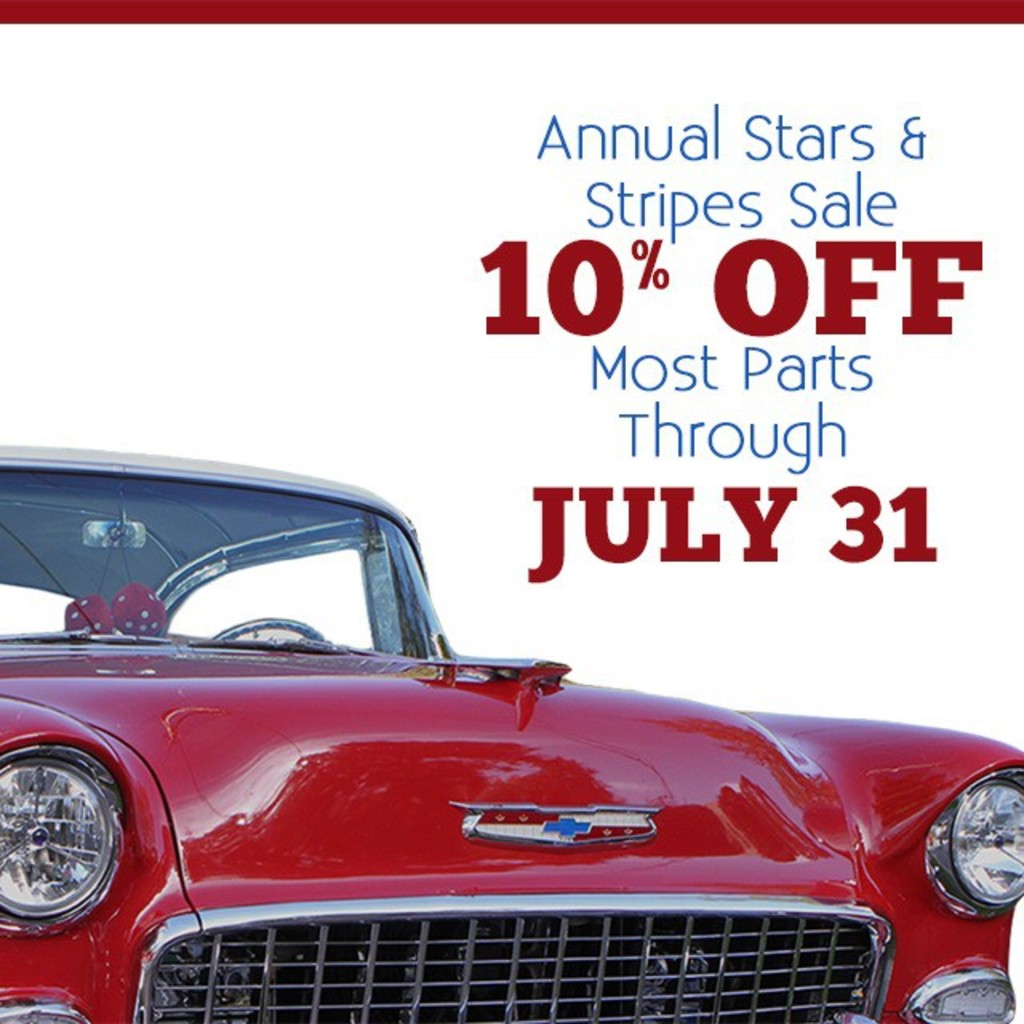Car: (0, 446, 1022, 1022)
